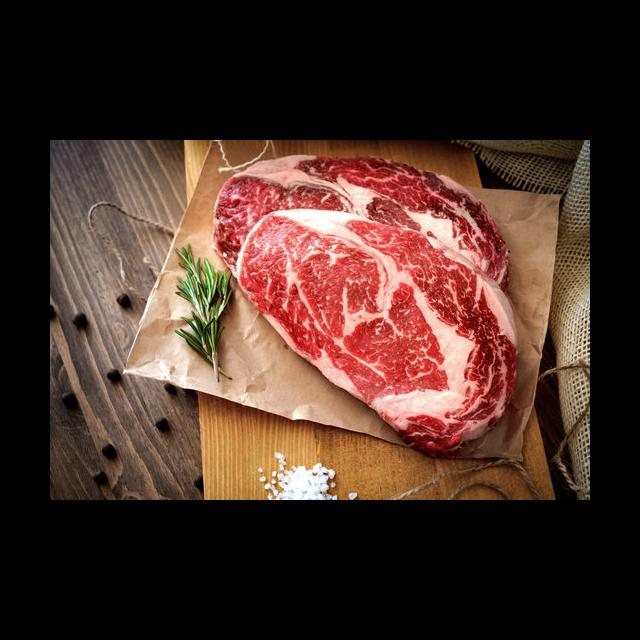beef: (236, 207, 524, 456), (207, 155, 522, 283)
